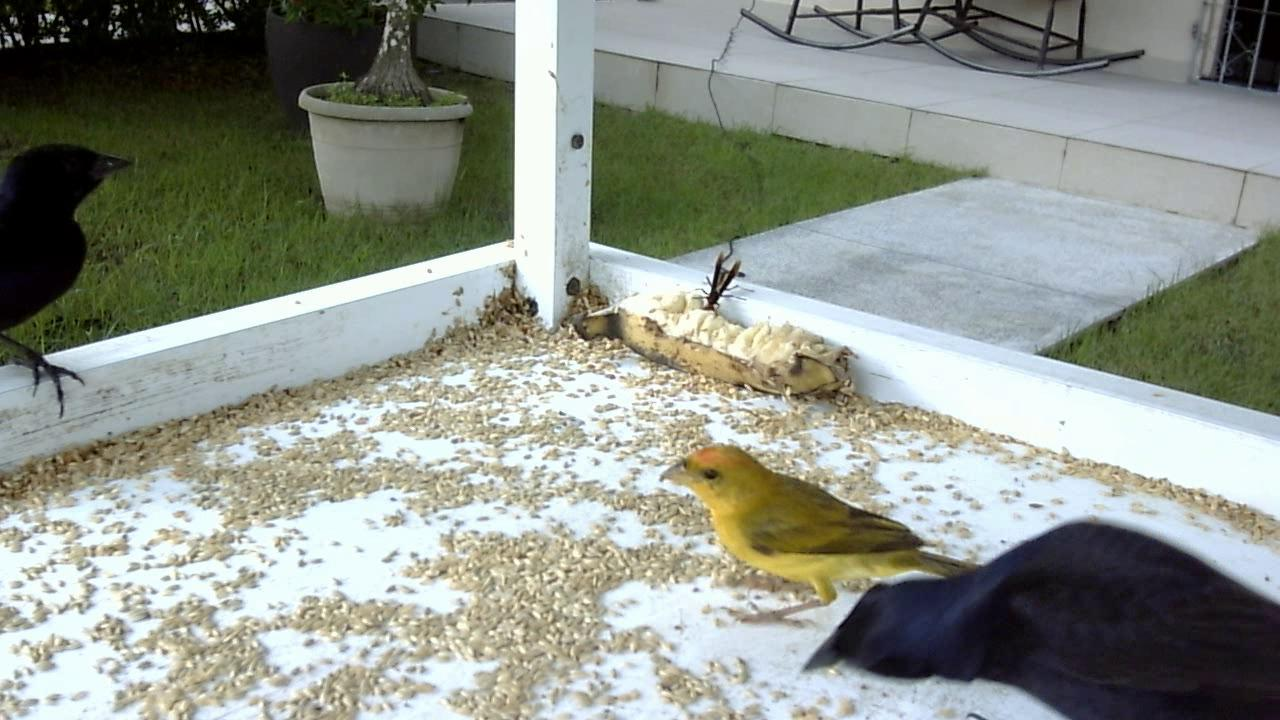canario_do_amazonas: (651, 437, 948, 628)
chupim: (805, 474, 1270, 716), (1, 138, 140, 425)
